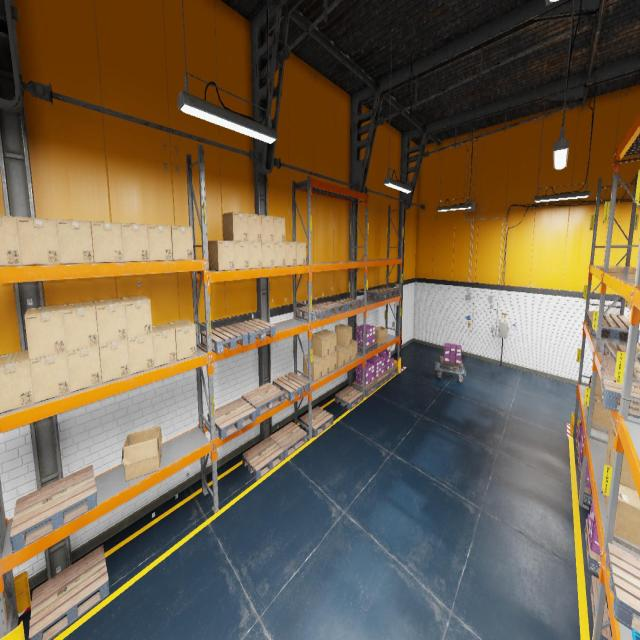box: (24, 304, 66, 360), (122, 426, 162, 480), (16, 216, 60, 265), (0, 350, 34, 413), (29, 352, 70, 403), (613, 484, 640, 554), (63, 301, 99, 351), (56, 218, 94, 264), (66, 346, 102, 392), (610, 429, 636, 490), (93, 298, 127, 344), (98, 339, 130, 383), (120, 295, 152, 338), (91, 221, 123, 263), (168, 320, 197, 360), (0, 216, 22, 266), (121, 223, 149, 261), (152, 323, 176, 367), (128, 334, 154, 374), (148, 224, 172, 261), (591, 395, 613, 433), (222, 212, 248, 241), (208, 241, 234, 270), (171, 226, 193, 260), (303, 354, 322, 381), (606, 418, 616, 464), (319, 329, 336, 354), (312, 332, 329, 357), (334, 324, 352, 346), (248, 214, 262, 242), (234, 241, 248, 269), (248, 242, 262, 268), (261, 215, 274, 241), (262, 242, 274, 267), (604, 454, 610, 502), (274, 216, 285, 242), (337, 344, 351, 364), (274, 242, 285, 266), (285, 242, 296, 265), (296, 242, 306, 265), (375, 326, 387, 344), (594, 371, 602, 396), (337, 344, 345, 367), (322, 354, 329, 377), (330, 351, 336, 373), (352, 340, 358, 360), (587, 383, 591, 410), (588, 375, 592, 385), (606, 496, 608, 510)
pallets: (10, 464, 97, 553), (29, 546, 109, 640), (606, 543, 640, 632), (208, 398, 256, 440), (600, 371, 640, 418), (242, 437, 284, 480), (242, 383, 284, 417), (590, 576, 612, 640), (201, 325, 248, 354), (270, 422, 307, 458), (588, 317, 640, 342), (272, 372, 310, 401), (232, 319, 275, 343), (300, 406, 333, 437), (600, 355, 640, 379), (584, 519, 600, 576), (603, 342, 640, 364), (335, 386, 363, 409), (586, 311, 628, 326), (297, 304, 329, 322), (313, 301, 345, 316), (580, 468, 592, 506), (352, 380, 378, 396), (440, 356, 463, 372), (335, 298, 361, 310), (358, 341, 378, 354), (367, 289, 390, 300), (374, 372, 389, 387), (376, 287, 399, 296), (384, 366, 398, 378), (578, 447, 582, 475), (576, 430, 579, 455)
